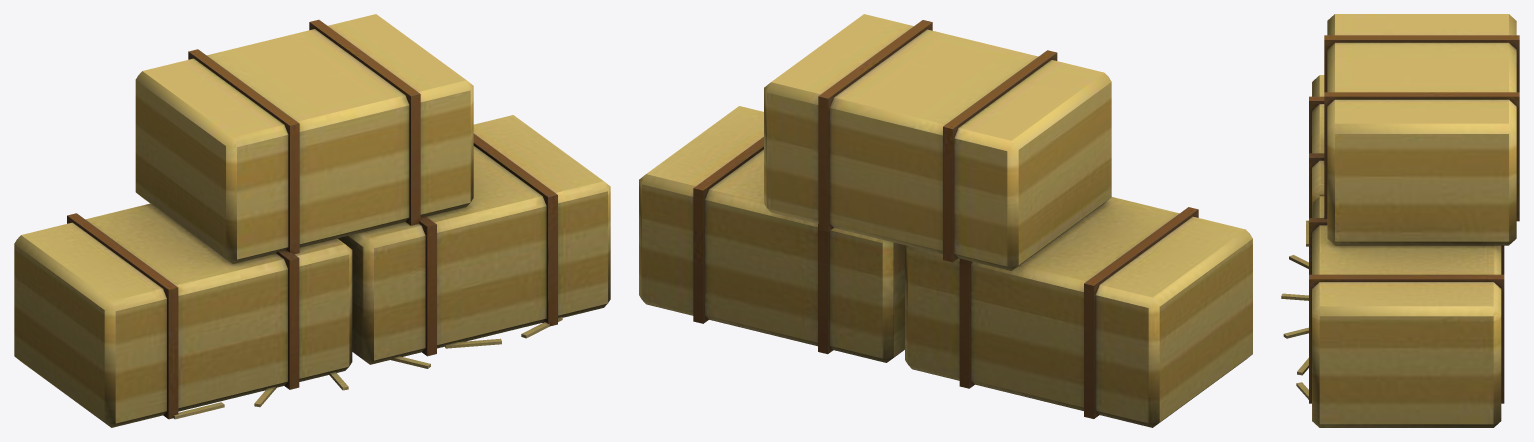
The model's file is paca.glb.
3 views of the same model, side by side, from view 1: azimuth 30°, elevation 25°; view 2: azimuth 150°, elevation 25°; view 3: azimuth 270°, elevation 25° (orthographic). The views are drawn at different scales.
Parts seen in each view (by area): view 1: paca; view 2: paca; view 3: paca.
Boxes of the visible parts, left/top/right/bottom form: paca: left=14, top=14, right=610, bottom=427; paca: left=639, top=14, right=1252, bottom=427; paca: left=1281, top=14, right=1519, bottom=427.
Size of the model in its own units: 1.84 by 0.89 by 0.7804.
Materials: 1 (1 with a texture image).
